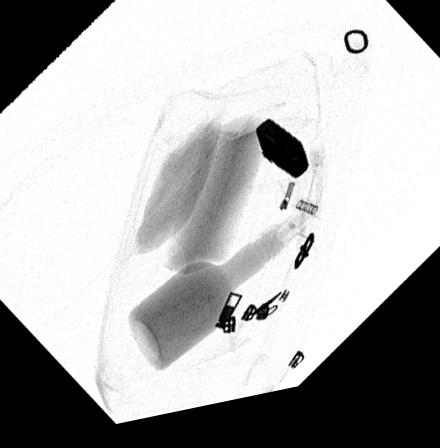Lighter: (254, 128, 309, 192)
